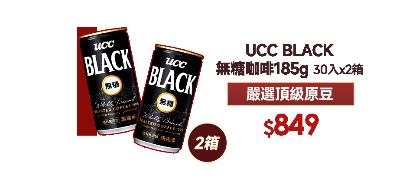Can: (134, 45, 202, 153), (80, 28, 140, 134)
